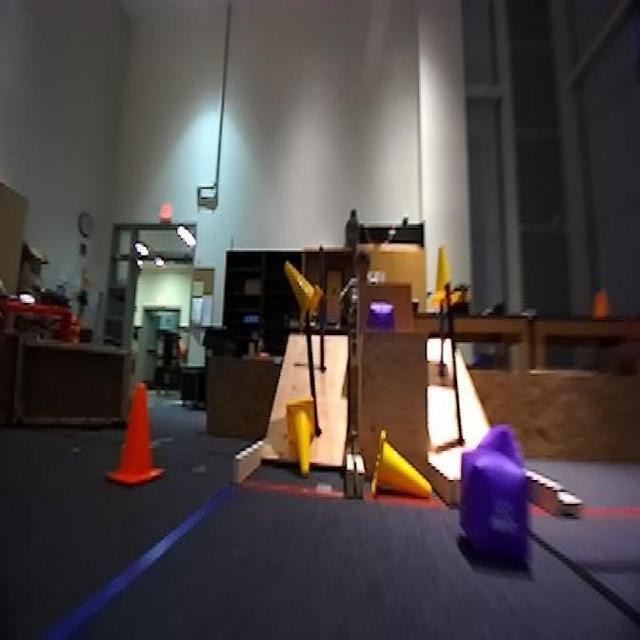frc_cone: (376, 429, 432, 499), (282, 397, 320, 480), (284, 262, 322, 327), (431, 244, 458, 316)
frc_cube: (464, 451, 533, 565), (478, 426, 535, 502), (364, 305, 400, 332)
